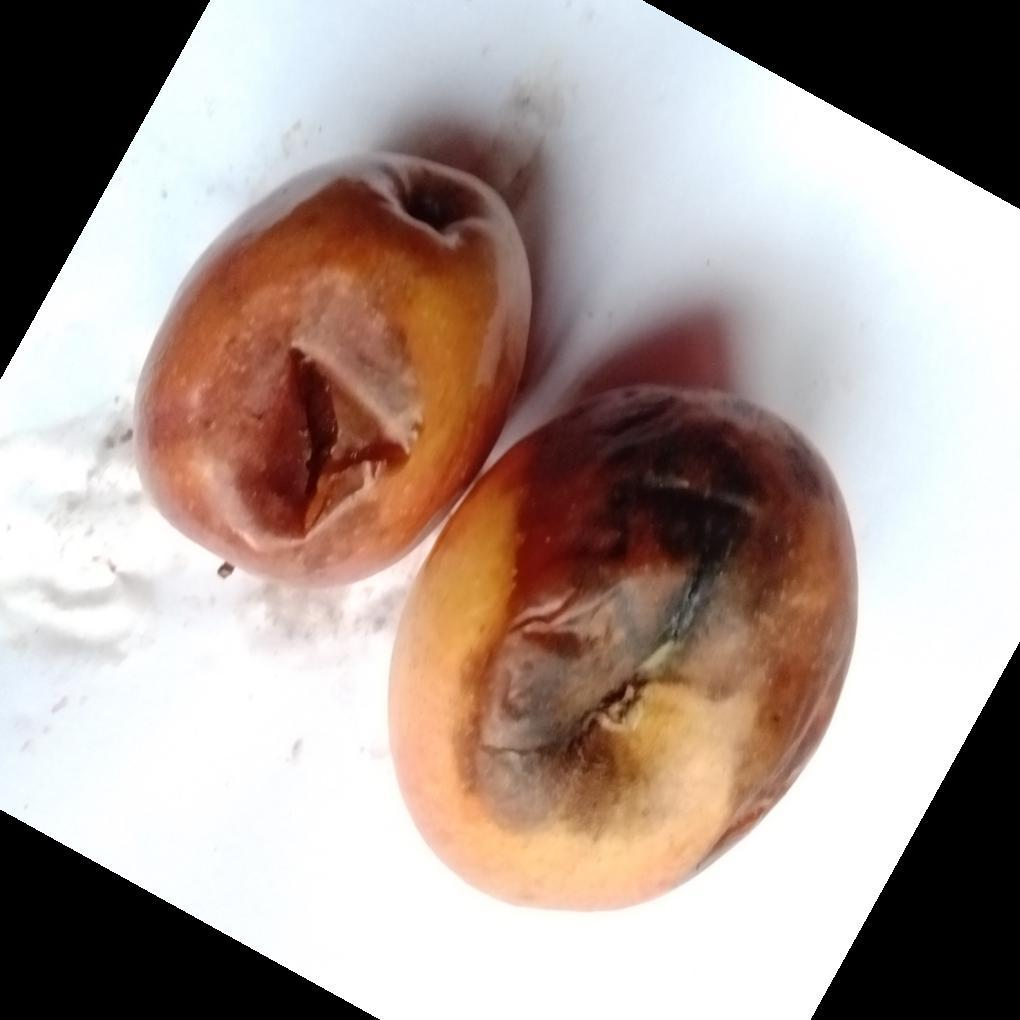FreshOrange: (133, 152, 860, 917)
